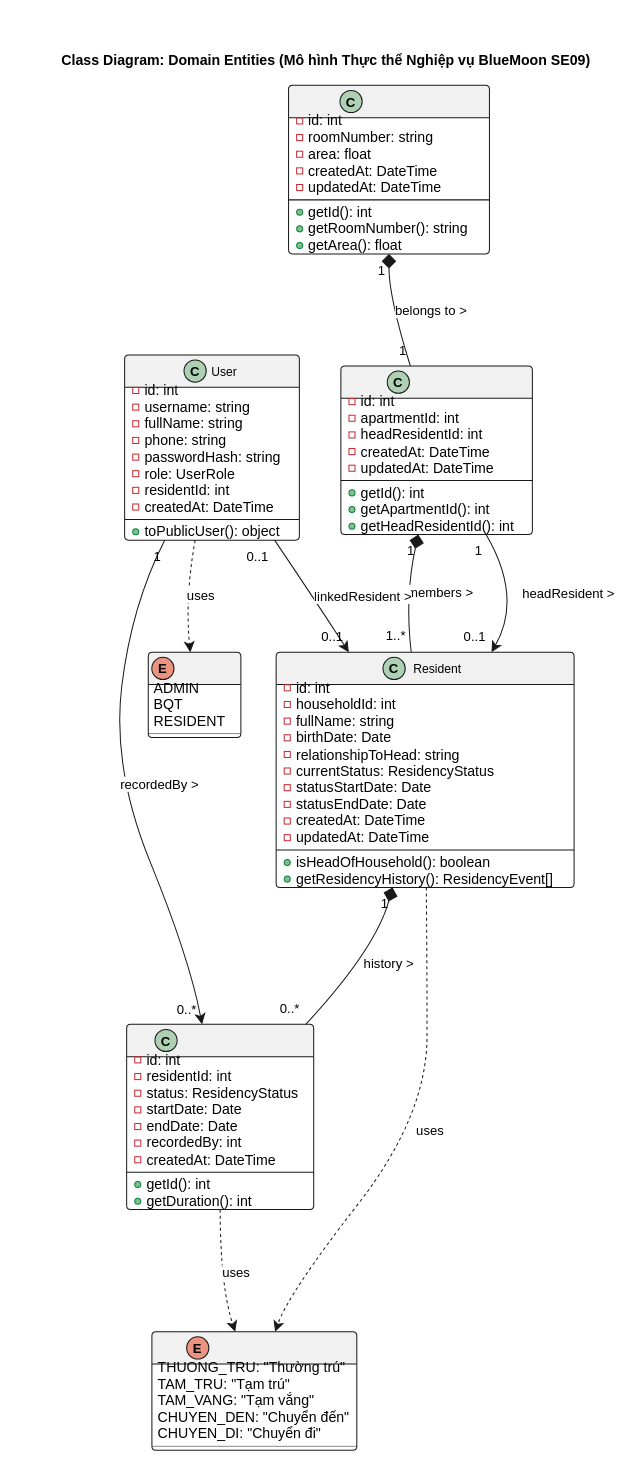
Image size: 631x1468. Some labels were removed from this diagram. The shapes that lost their labels are listed below. From the top down, each one's box as (x1, y1, x2, y2) in pixels, then its label:
(288, 84, 489, 254): Apartment
(340, 365, 532, 535): Household
(147, 651, 241, 738): UserRole
(126, 1023, 314, 1210): ResidencyEvent
(151, 1331, 357, 1450): ResidencyStatus
